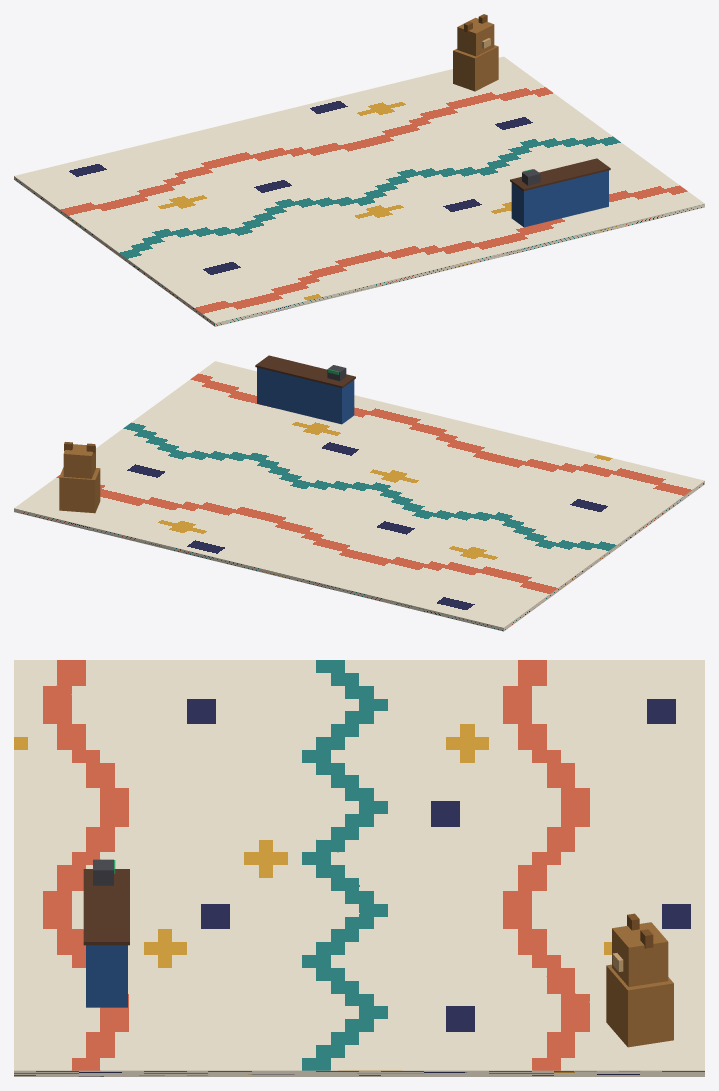
The model's file is structure.glb.
3 views of the same model, one above another, from view 1: azimuth 30°, elevation 25°; view 2: azimuth 150°, elevation 25°; view 3: azimuth 270°, elevation 25° (orthographic). The views are drawn at different scales.
Parts seen in each view (by area): view 1: Box1, Box7, Box2, Box8, Box3; view 2: Box1, Box7, Box2, Box8, Box3; view 3: Box1, Box2, Box8, Box3, Box7.
Boxes of the visible parts, bbox=[...] form: Box1: bbox=[14, 56, 704, 326]; Box7: bbox=[511, 170, 608, 227]; Box2: bbox=[453, 45, 498, 91]; Box8: bbox=[510, 158, 610, 191]; Box3: bbox=[457, 17, 494, 56]; Box1: bbox=[14, 361, 704, 631]; Box7: bbox=[257, 367, 354, 424]; Box2: bbox=[59, 467, 100, 513]; Box8: bbox=[255, 355, 355, 388]; Box3: bbox=[63, 444, 95, 478]; Box1: bbox=[14, 660, 704, 1076]; Box2: bbox=[606, 964, 673, 1047]; Box8: bbox=[83, 869, 129, 945]; Box3: bbox=[612, 922, 668, 986]; Box7: bbox=[86, 945, 127, 1007].
Bounding box in the file's own units: 13.85 × 1.78 × 9.85.
Materials: 8 (1 with a texture image).
